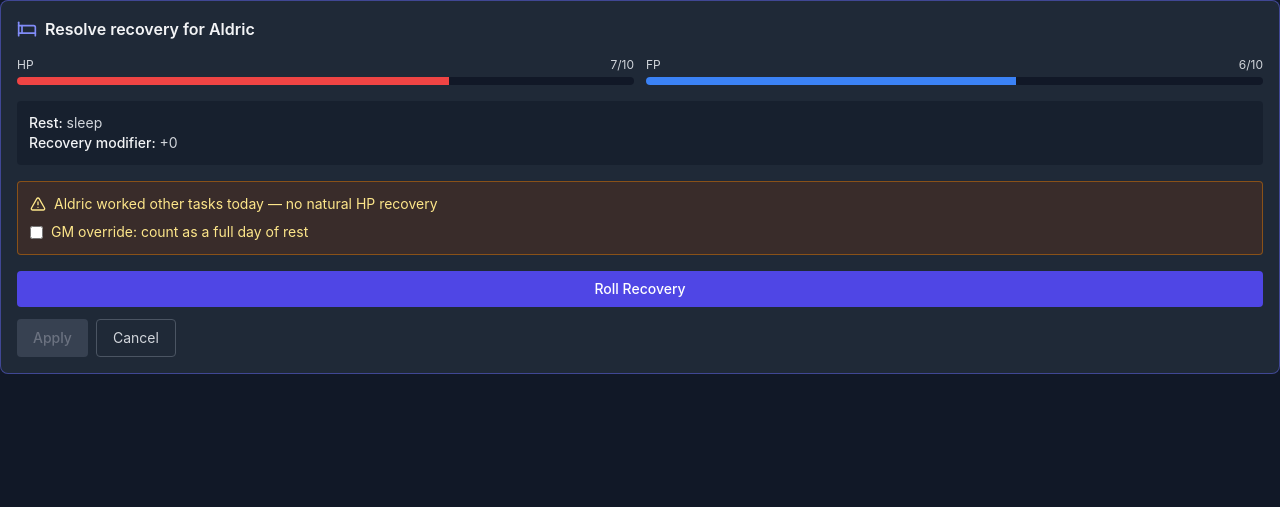
Test: RestResolutionPanel › shows the full-day warning and allows a GM override
Check: the text "Aldric worked other tasks today — no natural HP recovery" is shown, box [30, 195, 438, 212]
Click the checkbox with test id "full-day-override" at (36, 232), box [30, 226, 43, 238]
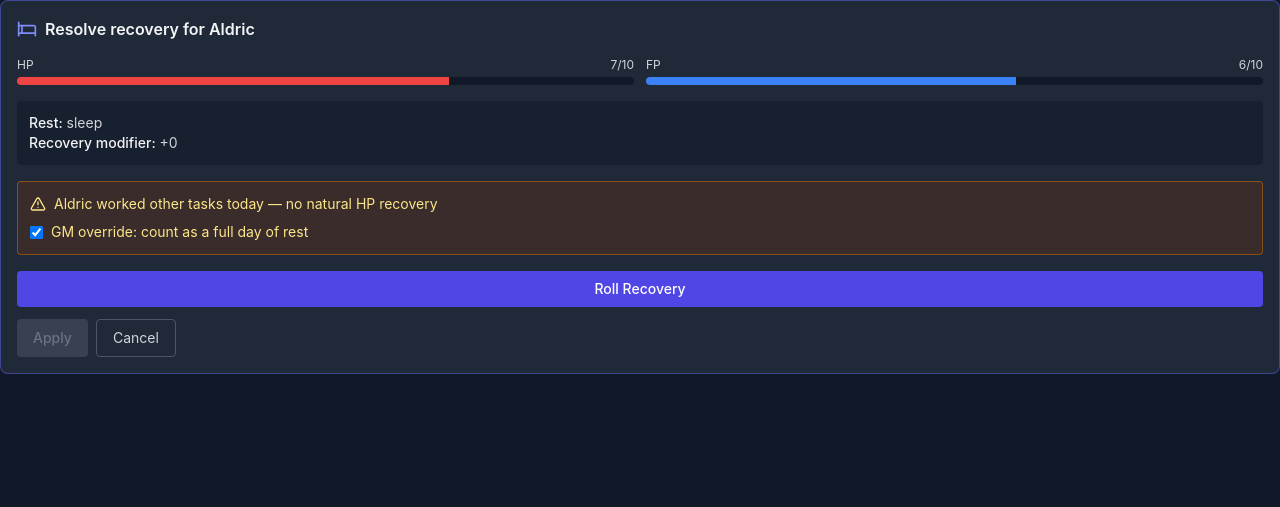
Click the button with test id "roll-recovery-button" at (640, 289), box [17, 271, 1263, 307]
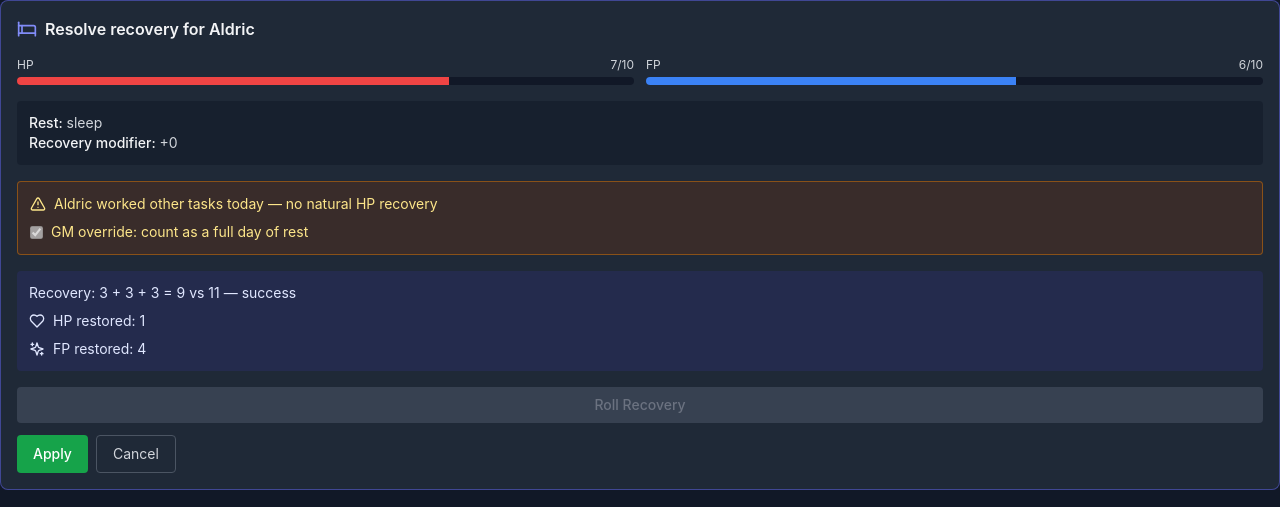
Check: the text "HP restored: 1" is shown, box [29, 312, 145, 329]
